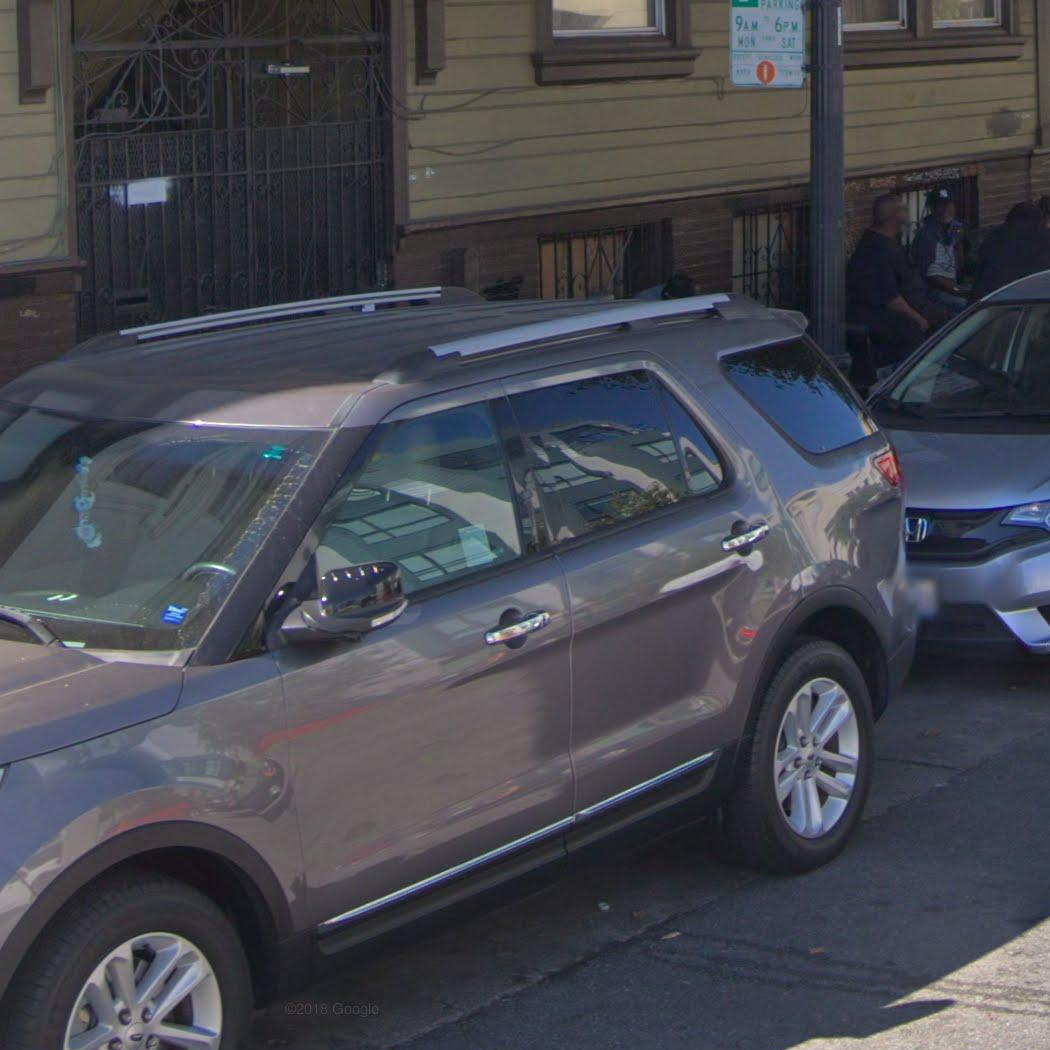2 Hour Parking: (728, 0, 808, 92)
